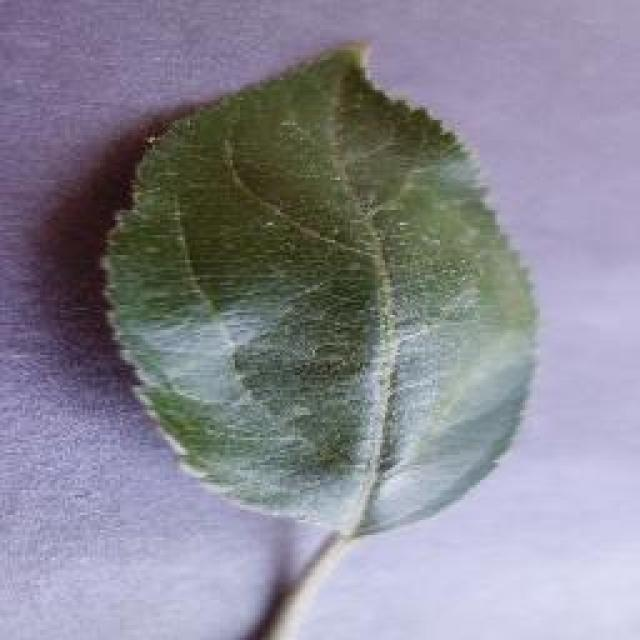apple healthy: (95, 38, 540, 540)
